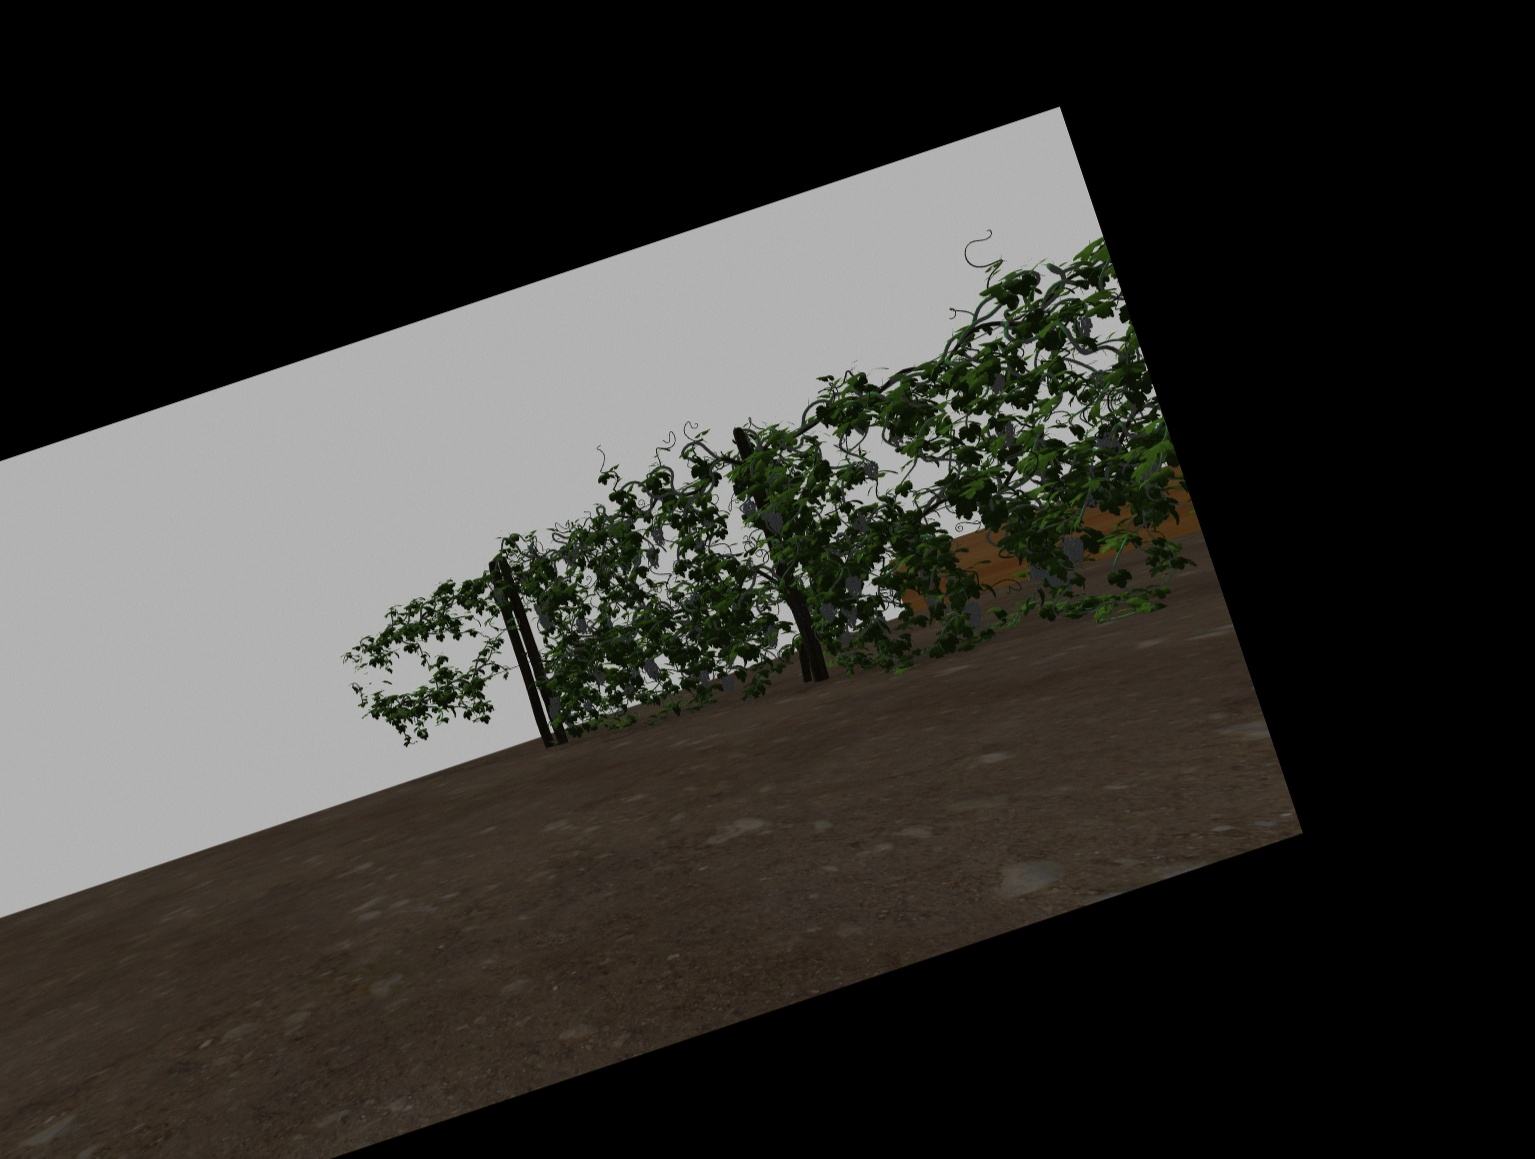grape: (1061, 534, 1085, 565), (962, 601, 984, 629), (1072, 315, 1093, 341), (764, 506, 784, 532), (844, 603, 859, 629), (845, 575, 863, 598), (643, 657, 661, 681), (537, 605, 553, 631), (851, 510, 867, 534), (819, 601, 836, 623), (764, 623, 780, 646), (743, 499, 758, 520), (990, 373, 1005, 393), (864, 460, 880, 480), (547, 698, 562, 717), (1047, 569, 1063, 588), (1029, 561, 1044, 579), (721, 672, 735, 692), (648, 547, 661, 567), (652, 526, 665, 545), (594, 667, 606, 685), (495, 586, 506, 605), (575, 617, 588, 633), (583, 699, 594, 712)
